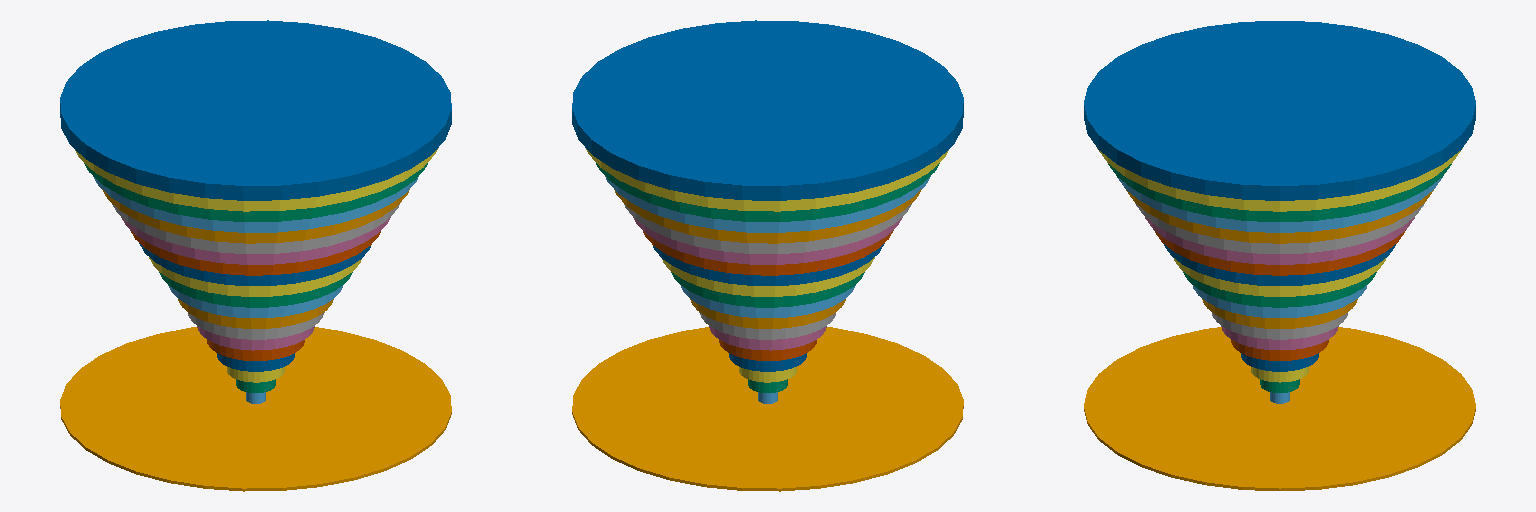
robot.urdf — 6_cone_inverted:
<?xml version="1.0"?>

<robot name="6_cone_inverted">

    <!-- The base --> 
    <link name="base_link">
        <inertial>
            <origin xyz="0 0 0" rpy="0 0 0"/>
            <mass value="1"/>
            <inertia ixx="0.1" ixy="0.0" ixz="0.0" iyy="0.1" iyz="0.0" izz="0.1"/>
        </inertial>
        <visual>
            <origin xyz="0 0 0" rpy="0 0 0"/>
            <geometry>
                <cylinder length="0.01" radius="0.6"/>
            </geometry>
        </visual>
        <collision>
            <origin xyz="0 0 0" rpy="0 0 0"/>
            <geometry>
                <cylinder length="0.01" radius="0.6"/>
            </geometry>
        </collision>
    </link>

    <!-- 0 -->
    <link name="0_link">
        <inertial>
            <origin xyz="0 0 0" rpy="0 0 0"/>
            <mass value="1"/>
            <inertia ixx="0.01" ixy="0.0" ixz="0.0" iyy="0.01" iyz="0.0" izz="0.01"/>
        </inertial>
        <visual>
            <origin xyz="0 0 0" rpy="0 0 0"/>
            <geometry>
                <cylinder length="0.05" radius="0.03"/>
            </geometry>
        </visual>
        <collision>
            <origin xyz="0 0 0" rpy="0 0 0"/>
            <geometry>
                <cylinder length="0.05" radius="0.03"/>
            </geometry>
        </collision>
    </link>

    <!-- Joint from base to 0 -->
    <joint name="base_0_joint" type="fixed">
        <parent link="base_link"/>
        <child link="0_link"/>
        <origin xyz="0 0 0.05" rpy="0 0 0"/>
    </joint>

    <!-- 1 -->
    <link name="1_link">
        <inertial>
            <origin xyz="0 0 0" rpy="0 0 0"/>
            <mass value="1"/>
            <inertia ixx="0.01" ixy="0.0" ixz="0.0" iyy="0.01" iyz="0.0" izz="0.01"/>
        </inertial>
        <visual>
            <origin xyz="0 0 0" rpy="0 0 0"/>
            <geometry>
                <cylinder length="0.05" radius="0.06"/>
            </geometry>
        </visual>
        <collision>
            <origin xyz="0 0 0" rpy="0 0 0"/>
            <geometry>
                <cylinder length="0.05" radius="0.06"/>
            </geometry>
        </collision>
    </link>

    <!-- Joint from 0 to 1 -->
    <joint name="0_1_joint" type="fixed">
        <parent link="0_link"/>
        <child link="1_link"/>
        <origin xyz="0 0 0.05" rpy="0 0 0"/>
    </joint>

    <!-- 2 -->
    <link name="2_link">
        <inertial>
            <origin xyz="0 0 0" rpy="0 0 0"/>
            <mass value="1"/>
            <inertia ixx="0.01" ixy="0.0" ixz="0.0" iyy="0.01" iyz="0.0" izz="0.01"/>
        </inertial>
        <visual>
            <origin xyz="0 0 0" rpy="0 0 0"/>
            <geometry>
                <cylinder length="0.05" radius="0.09"/>
            </geometry>
        </visual>
        <collision>
            <origin xyz="0 0 0" rpy="0 0 0"/>
            <geometry>
                <cylinder length="0.05" radius="0.09"/>
            </geometry>
        </collision>
    </link>

    <!-- Joint from 1 to 2 -->
    <joint name="1_2_joint" type="fixed">
        <parent link="1_link"/>
        <child link="2_link"/>
        <origin xyz="0 0 0.05" rpy="0 0 0"/>
    </joint>

    <!-- 3 -->
    <link name="3_link">
        <inertial>
            <origin xyz="0 0 0" rpy="0 0 0"/>
            <mass value="1"/>
            <inertia ixx="0.01" ixy="0.0" ixz="0.0" iyy="0.01" iyz="0.0" izz="0.01"/>
        </inertial>
        <visual>
            <origin xyz="0 0 0" rpy="0 0 0"/>
            <geometry>
                <cylinder length="0.05" radius="0.12"/>
            </geometry>
        </visual>
        <collision>
            <origin xyz="0 0 0" rpy="0 0 0"/>
            <geometry>
                <cylinder length="0.05" radius="0.12"/>
            </geometry>
        </collision>
    </link>

    <!-- Joint from 2 to 3 -->
    <joint name="2_3_joint" type="fixed">
        <parent link="2_link"/>
        <child link="3_link"/>
        <origin xyz="0 0 0.05" rpy="0 0 0"/>
    </joint>

    <!-- 4 -->
    <link name="4_link">
        <inertial>
            <origin xyz="0 0 0" rpy="0 0 0"/>
            <mass value="1"/>
            <inertia ixx="0.01" ixy="0.0" ixz="0.0" iyy="0.01" iyz="0.0" izz="0.01"/>
        </inertial>
        <visual>
            <origin xyz="0 0 0" rpy="0 0 0"/>
            <geometry>
                <cylinder length="0.05" radius="0.15"/>
            </geometry>
        </visual>
        <collision>
            <origin xyz="0 0 0" rpy="0 0 0"/>
            <geometry>
                <cylinder length="0.05" radius="0.15"/>
            </geometry>
        </collision>
    </link>

    <!-- Joint from 3 to 4 -->
    <joint name="3_4_joint" type="fixed">
        <parent link="3_link"/>
        <child link="4_link"/>
        <origin xyz="0 0 0.05" rpy="0 0 0"/>
    </joint>

    <!-- 5 -->
    <link name="5_link">
        <inertial>
            <origin xyz="0 0 0" rpy="0 0 0"/>
            <mass value="1"/>
            <inertia ixx="0.01" ixy="0.0" ixz="0.0" iyy="0.01" iyz="0.0" izz="0.01"/>
        </inertial>
        <visual>
            <origin xyz="0 0 0" rpy="0 0 0"/>
            <geometry>
                <cylinder length="0.05" radius="0.18"/>
            </geometry>
        </visual>
        <collision>
            <origin xyz="0 0 0" rpy="0 0 0"/>
            <geometry>
                <cylinder length="0.05" radius="0.18"/>
            </geometry>
        </collision>
    </link>

    <!-- Joint from 4 to 5 -->
    <joint name="4_5_joint" type="fixed">
        <parent link="4_link"/>
        <child link="5_link"/>
        <origin xyz="0 0 0.05" rpy="0 0 0"/>
    </joint>

    <!-- 6 -->
    <link name="6_link">
        <inertial>
            <origin xyz="0 0 0" rpy="0 0 0"/>
            <mass value="1"/>
            <inertia ixx="0.01" ixy="0.0" ixz="0.0" iyy="0.01" iyz="0.0" izz="0.01"/>
        </inertial>
        <visual>
            <origin xyz="0 0 0" rpy="0 0 0"/>
            <geometry>
                <cylinder length="0.05" radius="0.21"/>
            </geometry>
        </visual>
        <collision>
            <origin xyz="0 0 0" rpy="0 0 0"/>
            <geometry>
                <cylinder length="0.05" radius="0.21"/>
            </geometry>
        </collision>
    </link>

    <!-- Joint from 5 to 6 -->
    <joint name="5_6_joint" type="fixed">
        <parent link="5_link"/>
        <child link="6_link"/>
        <origin xyz="0 0 0.05" rpy="0 0 0"/>
    </joint>

    <!-- 7 -->
    <link name="7_link">
        <inertial>
            <origin xyz="0 0 0" rpy="0 0 0"/>
            <mass value="1"/>
            <inertia ixx="0.01" ixy="0.0" ixz="0.0" iyy="0.01" iyz="0.0" izz="0.01"/>
        </inertial>
        <visual>
            <origin xyz="0 0 0" rpy="0 0 0"/>
            <geometry>
                <cylinder length="0.05" radius="0.24"/>
            </geometry>
        </visual>
        <collision>
            <origin xyz="0 0 0" rpy="0 0 0"/>
            <geometry>
                <cylinder length="0.05" radius="0.24"/>
            </geometry>
        </collision>
    </link>

    <!-- Joint from 6 to 7 -->
    <joint name="6_7_joint" type="fixed">
        <parent link="6_link"/>
        <child link="7_link"/>
        <origin xyz="0 0 0.05" rpy="0 0 0"/>
    </joint>

    <!-- 8 -->
    <link name="8_link">
        <inertial>
            <origin xyz="0 0 0" rpy="0 0 0"/>
            <mass value="1"/>
            <inertia ixx="0.01" ixy="0.0" ixz="0.0" iyy="0.01" iyz="0.0" izz="0.01"/>
        </inertial>
        <visual>
            <origin xyz="0 0 0" rpy="0 0 0"/>
            <geometry>
                <cylinder length="0.05" radius="0.27"/>
            </geometry>
        </visual>
        <collision>
            <origin xyz="0 0 0" rpy="0 0 0"/>
            <geometry>
                <cylinder length="0.05" radius="0.27"/>
            </geometry>
        </collision>
    </link>

    <!-- Joint from 7 to 8 -->
    <joint name="7_8_joint" type="fixed">
        <parent link="7_link"/>
        <child link="8_link"/>
        <origin xyz="0 0 0.05" rpy="0 0 0"/>
    </joint>

    <!-- 9 -->
    <link name="9_link">
        <inertial>
            <origin xyz="0 0 0" rpy="0 0 0"/>
            <mass value="1"/>
            <inertia ixx="0.01" ixy="0.0" ixz="0.0" iyy="0.01" iyz="0.0" izz="0.01"/>
        </inertial>
        <visual>
            <origin xyz="0 0 0" rpy="0 0 0"/>
            <geometry>
                <cylinder length="0.05" radius="0.30000000000000004"/>
            </geometry>
        </visual>
        <collision>
            <origin xyz="0 0 0" rpy="0 0 0"/>
            <geometry>
                <cylinder length="0.05" radius="0.30000000000000004"/>
            </geometry>
        </collision>
    </link>

    <!-- Joint from 8 to 9 -->
    <joint name="8_9_joint" type="fixed">
        <parent link="8_link"/>
        <child link="9_link"/>
        <origin xyz="0 0 0.05" rpy="0 0 0"/>
    </joint>

    <!-- 10 -->
    <link name="10_link">
        <inertial>
            <origin xyz="0 0 0" rpy="0 0 0"/>
            <mass value="1"/>
            <inertia ixx="0.01" ixy="0.0" ixz="0.0" iyy="0.01" iyz="0.0" izz="0.01"/>
        </inertial>
        <visual>
            <origin xyz="0 0 0" rpy="0 0 0"/>
            <geometry>
                <cylinder length="0.05" radius="0.32999999999999996"/>
            </geometry>
        </visual>
        <collision>
            <origin xyz="0 0 0" rpy="0 0 0"/>
            <geometry>
                <cylinder length="0.05" radius="0.32999999999999996"/>
            </geometry>
        </collision>
    </link>

    <!-- Joint from 9 to 10 -->
    <joint name="9_10_joint" type="fixed">
        <parent link="9_link"/>
        <child link="10_link"/>
        <origin xyz="0 0 0.05" rpy="0 0 0"/>
    </joint>

    <!-- 11 -->
    <link name="11_link">
        <inertial>
            <origin xyz="0 0 0" rpy="0 0 0"/>
            <mass value="1"/>
            <inertia ixx="0.01" ixy="0.0" ixz="0.0" iyy="0.01" iyz="0.0" izz="0.01"/>
        </inertial>
        <visual>
            <origin xyz="0 0 0" rpy="0 0 0"/>
            <geometry>
                <cylinder length="0.05" radius="0.36"/>
            </geometry>
        </visual>
        <collision>
            <origin xyz="0 0 0" rpy="0 0 0"/>
            <geometry>
                <cylinder length="0.05" radius="0.36"/>
            </geometry>
        </collision>
    </link>

    <!-- Joint from 10 to 11 -->
    <joint name="10_11_joint" type="fixed">
        <parent link="10_link"/>
        <child link="11_link"/>
        <origin xyz="0 0 0.05" rpy="0 0 0"/>
    </joint>

    <!-- 12 -->
    <link name="12_link">
        <inertial>
            <origin xyz="0 0 0" rpy="0 0 0"/>
            <mass value="1"/>
            <inertia ixx="0.01" ixy="0.0" ixz="0.0" iyy="0.01" iyz="0.0" izz="0.01"/>
        </inertial>
        <visual>
            <origin xyz="0 0 0" rpy="0 0 0"/>
            <geometry>
                <cylinder length="0.05" radius="0.39"/>
            </geometry>
        </visual>
        <collision>
            <origin xyz="0 0 0" rpy="0 0 0"/>
            <geometry>
                <cylinder length="0.05" radius="0.39"/>
            </geometry>
        </collision>
    </link>

    <!-- Joint from 11 to 12 -->
    <joint name="11_12_joint" type="fixed">
        <parent link="11_link"/>
        <child link="12_link"/>
        <origin xyz="0 0 0.05" rpy="0 0 0"/>
    </joint>

    <!-- 13 -->
    <link name="13_link">
        <inertial>
            <origin xyz="0 0 0" rpy="0 0 0"/>
            <mass value="1"/>
            <inertia ixx="0.01" ixy="0.0" ixz="0.0" iyy="0.01" iyz="0.0" izz="0.01"/>
        </inertial>
        <visual>
            <origin xyz="0 0 0" rpy="0 0 0"/>
            <geometry>
                <cylinder length="0.05" radius="0.42000000000000004"/>
            </geometry>
        </visual>
        <collision>
            <origin xyz="0 0 0" rpy="0 0 0"/>
            <geometry>
                <cylinder length="0.05" radius="0.42000000000000004"/>
            </geometry>
        </collision>
    </link>

    <!-- Joint from 12 to 13 -->
    <joint name="12_13_joint" type="fixed">
        <parent link="12_link"/>
        <child link="13_link"/>
        <origin xyz="0 0 0.05" rpy="0 0 0"/>
    </joint>

    <!-- 14 -->
    <link name="14_link">
        <inertial>
            <origin xyz="0 0 0" rpy="0 0 0"/>
            <mass value="1"/>
            <inertia ixx="0.01" ixy="0.0" ixz="0.0" iyy="0.01" iyz="0.0" izz="0.01"/>
        </inertial>
        <visual>
            <origin xyz="0 0 0" rpy="0 0 0"/>
            <geometry>
                <cylinder length="0.05" radius="0.44999999999999996"/>
            </geometry>
        </visual>
        <collision>
            <origin xyz="0 0 0" rpy="0 0 0"/>
            <geometry>
                <cylinder length="0.05" radius="0.44999999999999996"/>
            </geometry>
        </collision>
    </link>

    <!-- Joint from 13 to 14 -->
    <joint name="13_14_joint" type="fixed">
        <parent link="13_link"/>
        <child link="14_link"/>
        <origin xyz="0 0 0.05" rpy="0 0 0"/>
    </joint>

    <!-- 15 -->
    <link name="15_link">
        <inertial>
            <origin xyz="0 0 0" rpy="0 0 0"/>
            <mass value="1"/>
            <inertia ixx="0.01" ixy="0.0" ixz="0.0" iyy="0.01" iyz="0.0" izz="0.01"/>
        </inertial>
        <visual>
            <origin xyz="0 0 0" rpy="0 0 0"/>
            <geometry>
                <cylinder length="0.05" radius="0.48"/>
            </geometry>
        </visual>
        <collision>
            <origin xyz="0 0 0" rpy="0 0 0"/>
            <geometry>
                <cylinder length="0.05" radius="0.48"/>
            </geometry>
        </collision>
    </link>

    <!-- Joint from 14 to 15 -->
    <joint name="14_15_joint" type="fixed">
        <parent link="14_link"/>
        <child link="15_link"/>
        <origin xyz="0 0 0.05" rpy="0 0 0"/>
    </joint>

    <!-- 16 -->
    <link name="16_link">
        <inertial>
            <origin xyz="0 0 0" rpy="0 0 0"/>
            <mass value="1"/>
            <inertia ixx="0.01" ixy="0.0" ixz="0.0" iyy="0.01" iyz="0.0" izz="0.01"/>
        </inertial>
        <visual>
            <origin xyz="0 0 0" rpy="0 0 0"/>
            <geometry>
                <cylinder length="0.05" radius="0.51"/>
            </geometry>
        </visual>
        <collision>
            <origin xyz="0 0 0" rpy="0 0 0"/>
            <geometry>
                <cylinder length="0.05" radius="0.51"/>
            </geometry>
        </collision>
    </link>

    <!-- Joint from 15 to 16 -->
    <joint name="15_16_joint" type="fixed">
        <parent link="15_link"/>
        <child link="16_link"/>
        <origin xyz="0 0 0.05" rpy="0 0 0"/>
    </joint>

    <!-- 17 -->
    <link name="17_link">
        <inertial>
            <origin xyz="0 0 0" rpy="0 0 0"/>
            <mass value="1"/>
            <inertia ixx="0.01" ixy="0.0" ixz="0.0" iyy="0.01" iyz="0.0" izz="0.01"/>
        </inertial>
        <visual>
            <origin xyz="0 0 0" rpy="0 0 0"/>
            <geometry>
                <cylinder length="0.05" radius="0.54"/>
            </geometry>
        </visual>
        <collision>
            <origin xyz="0 0 0" rpy="0 0 0"/>
            <geometry>
                <cylinder length="0.05" radius="0.54"/>
            </geometry>
        </collision>
    </link>

    <!-- Joint from 16 to 17 -->
    <joint name="16_17_joint" type="fixed">
        <parent link="16_link"/>
        <child link="17_link"/>
        <origin xyz="0 0 0.05" rpy="0 0 0"/>
    </joint>

    <!-- 18 -->
    <link name="18_link">
        <inertial>
            <origin xyz="0 0 0" rpy="0 0 0"/>
            <mass value="1"/>
            <inertia ixx="0.01" ixy="0.0" ixz="0.0" iyy="0.01" iyz="0.0" izz="0.01"/>
        </inertial>
        <visual>
            <origin xyz="0 0 0" rpy="0 0 0"/>
            <geometry>
                <cylinder length="0.05" radius="0.5700000000000001"/>
            </geometry>
        </visual>
        <collision>
            <origin xyz="0 0 0" rpy="0 0 0"/>
            <geometry>
                <cylinder length="0.05" radius="0.5700000000000001"/>
            </geometry>
        </collision>
    </link>

    <!-- Joint from 17 to 18 -->
    <joint name="17_18_joint" type="fixed">
        <parent link="17_link"/>
        <child link="18_link"/>
        <origin xyz="0 0 0.05" rpy="0 0 0"/>
    </joint>

    <!-- 19 -->
    <link name="19_link">
        <inertial>
            <origin xyz="0 0 0" rpy="0 0 0"/>
            <mass value="1"/>
            <inertia ixx="0.01" ixy="0.0" ixz="0.0" iyy="0.01" iyz="0.0" izz="0.01"/>
        </inertial>
        <visual>
            <origin xyz="0 0 0" rpy="0 0 0"/>
            <geometry>
                <cylinder length="0.05" radius="0.6"/>
            </geometry>
        </visual>
        <collision>
            <origin xyz="0 0 0" rpy="0 0 0"/>
            <geometry>
                <cylinder length="0.05" radius="0.6"/>
            </geometry>
        </collision>
    </link>

    <!-- Joint from 18 to 19 -->
    <joint name="18_19_joint" type="fixed">
        <parent link="18_link"/>
        <child link="19_link"/>
        <origin xyz="0 0 0.05" rpy="0 0 0"/>
    </joint>

</robot>

--- Render facts (derived) ---
Views: 3 orthographic renders of the robot side by side, from view 1: azimuth 30°, elevation 25°; view 2: azimuth 150°, elevation 25°; view 3: azimuth 270°, elevation 25°.
Robot: 6_cone_inverted — 21 links, 20 joints (20 fixed); root link base_link; default pose: every joint at zero.
Links seen in each view (by area): view 1: 19_link, base_link, 18_link, 17_link, 16_link, 15_link, 14_link, 13_link, 12_link, 11_link, 10_link, 9_link (+7 smaller); view 2: 19_link, base_link, 18_link, 17_link, 16_link, 15_link, 14_link, 13_link, 12_link, 11_link, 10_link, 9_link (+7 smaller); view 3: 19_link, base_link, 18_link, 17_link, 16_link, 15_link, 14_link, 13_link, 12_link, 11_link, 10_link, 9_link (+7 smaller).
Link boxes in pixels (left/top/right/bottom): 19_link: left=60, top=20, right=451, bottom=200; base_link: left=60, top=327, right=451, bottom=491; 18_link: left=75, top=149, right=437, bottom=211; 17_link: left=84, top=163, right=427, bottom=221; 16_link: left=93, top=176, right=418, bottom=232; 15_link: left=102, top=189, right=409, bottom=243; 14_link: left=112, top=204, right=399, bottom=253; 13_link: left=121, top=217, right=390, bottom=264; 12_link: left=130, top=230, right=380, bottom=275; 11_link: left=139, top=243, right=370, bottom=285; 10_link: left=149, top=257, right=361, bottom=296; 9_link: left=159, top=272, right=352, bottom=307; 19_link: left=572, top=20, right=963, bottom=200; base_link: left=572, top=327, right=963, bottom=491; 18_link: left=586, top=149, right=948, bottom=211; 17_link: left=596, top=163, right=939, bottom=221; 16_link: left=605, top=176, right=930, bottom=232; 15_link: left=614, top=189, right=921, bottom=243; 14_link: left=624, top=204, right=911, bottom=253; 13_link: left=633, top=217, right=902, bottom=264; 12_link: left=643, top=230, right=893, bottom=275; 11_link: left=653, top=243, right=884, bottom=285; 10_link: left=662, top=257, right=874, bottom=296; 9_link: left=671, top=272, right=864, bottom=307; 19_link: left=1084, top=21, right=1475, bottom=200; base_link: left=1084, top=327, right=1475, bottom=490; 18_link: left=1097, top=148, right=1462, bottom=211; 17_link: left=1108, top=164, right=1451, bottom=221; 16_link: left=1117, top=177, right=1442, bottom=232; 15_link: left=1126, top=190, right=1433, bottom=243; 14_link: left=1135, top=203, right=1424, bottom=253; 13_link: left=1145, top=217, right=1414, bottom=264; 12_link: left=1154, top=230, right=1405, bottom=275; 11_link: left=1164, top=244, right=1395, bottom=285; 10_link: left=1174, top=258, right=1385, bottom=296; 9_link: left=1183, top=272, right=1376, bottom=307.
Bounding box of the posed robot: 1.2 × 1.2 × 1.03 m (x, y, z).
Geometry: primitives only (box / cylinder / sphere), no mesh files.
